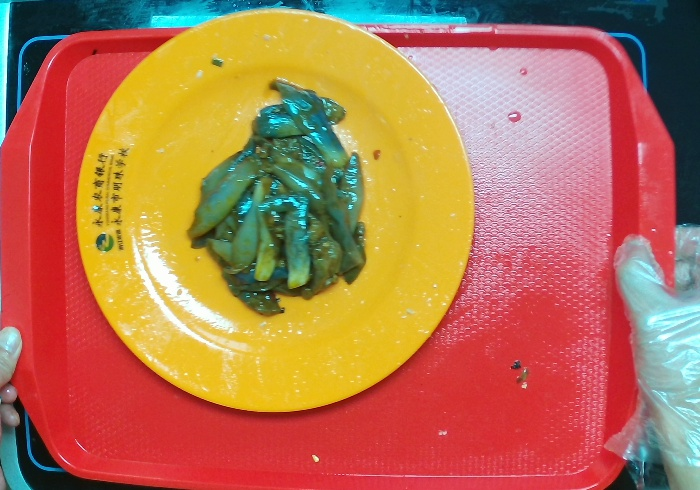YKMZ-Ju_Se_Mian_Pan: (71, 6, 477, 415)
